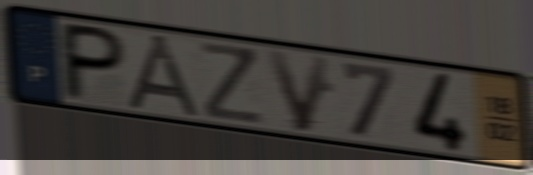4: (412, 69, 472, 154)
7: (339, 58, 398, 142)
A: (122, 32, 208, 121)
P: (59, 19, 130, 104)
V: (262, 47, 335, 136)
Z: (197, 39, 268, 128)
